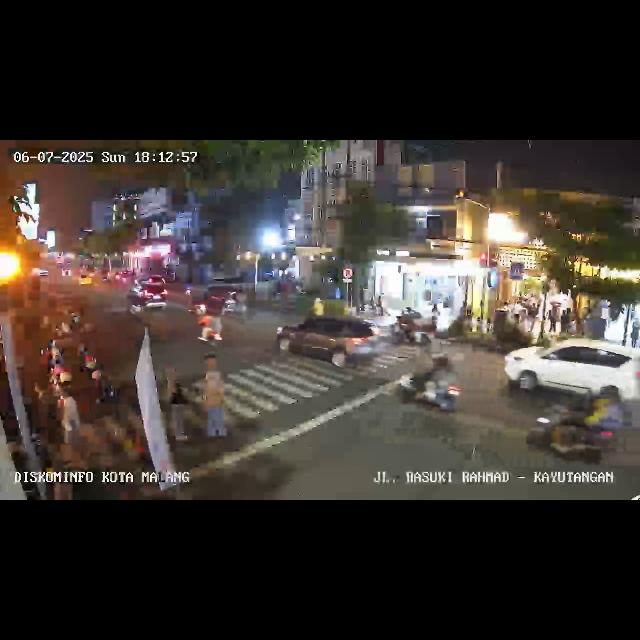car: (508, 340, 638, 404), (279, 314, 386, 374), (206, 286, 244, 320), (126, 284, 168, 312)
motorcycle: (530, 386, 632, 466), (392, 353, 464, 419), (390, 308, 434, 348), (196, 305, 224, 349), (309, 294, 325, 318)
person: (162, 377, 190, 469), (201, 366, 229, 444), (59, 390, 80, 446), (526, 304, 536, 338), (549, 302, 559, 334), (511, 300, 523, 326), (561, 305, 571, 335), (376, 292, 386, 316), (431, 301, 439, 327), (632, 321, 640, 347)
